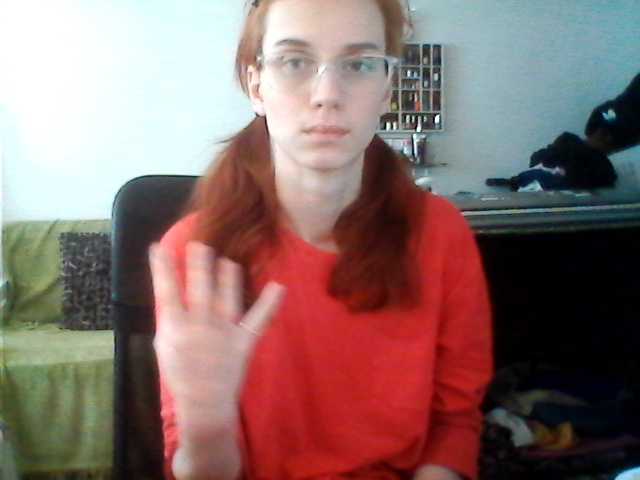kedy: (126, 236, 294, 417)
